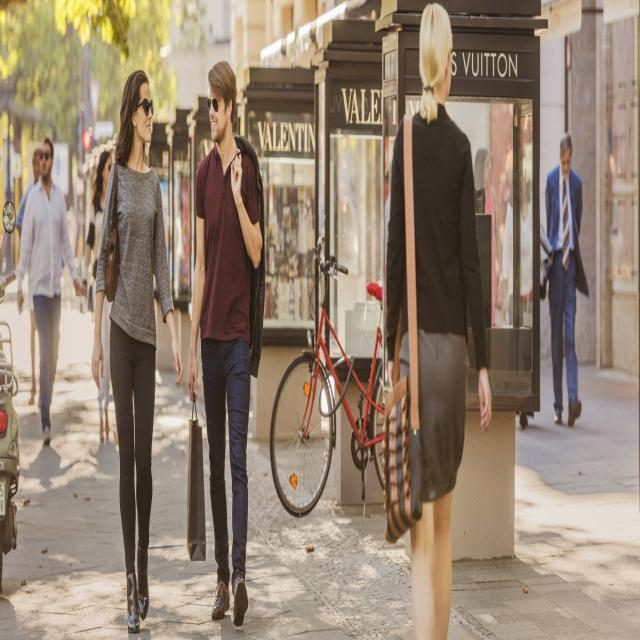body: (374, 0, 496, 639), (90, 68, 184, 638), (185, 50, 266, 633), (464, 103, 547, 430), (15, 132, 81, 449), (544, 130, 590, 432), (262, 166, 320, 344), (80, 150, 113, 443), (14, 145, 43, 411), (474, 147, 504, 329), (23, 436, 69, 512)
